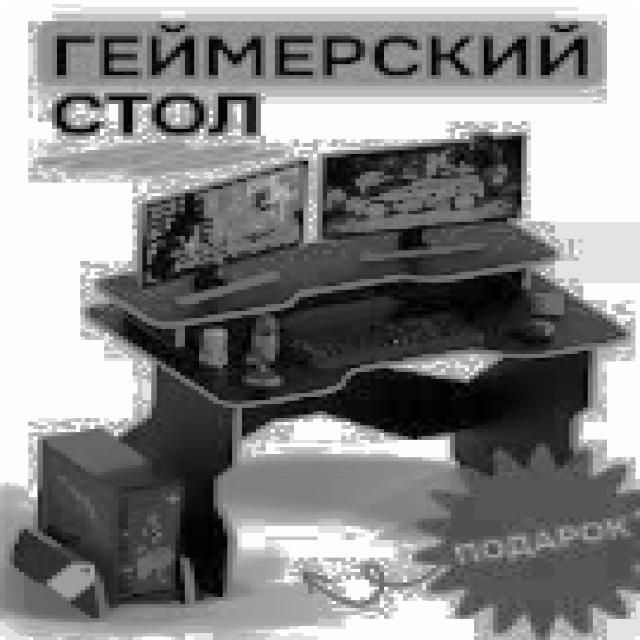table: (80, 243, 626, 601)
